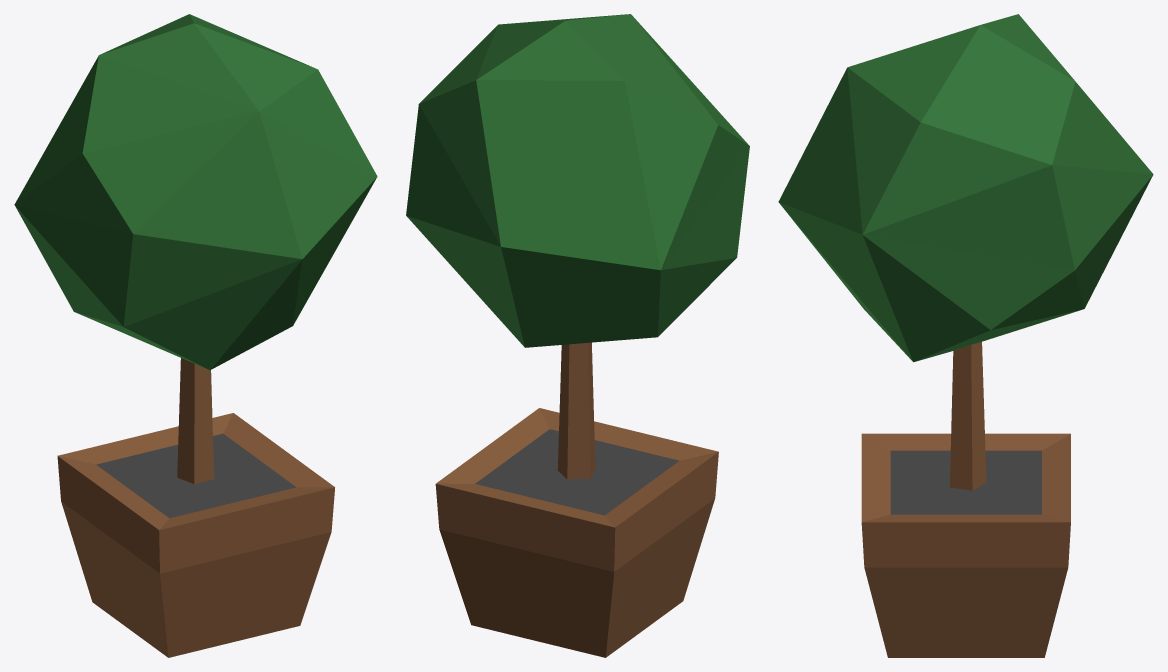
The model's file is nature-tree-pot.glb.
3 renders of one model, left to right at view 1: azimuth 30°, elevation 25°; view 2: azimuth 150°, elevation 25°; view 3: azimuth 270°, elevation 25°, orthographic. The views are drawn at different scales.
Parts seen in each view (by area): view 1: tree-pot; view 2: tree-pot; view 3: tree-pot.
Part boxes in pixels (x1,y1,x2,y2): tree-pot: (14,14,377,657); tree-pot: (406,14,749,657); tree-pot: (778,14,1153,657).
Bounding box in the file's own units: 0.5975 × 1.27 × 0.7171.
